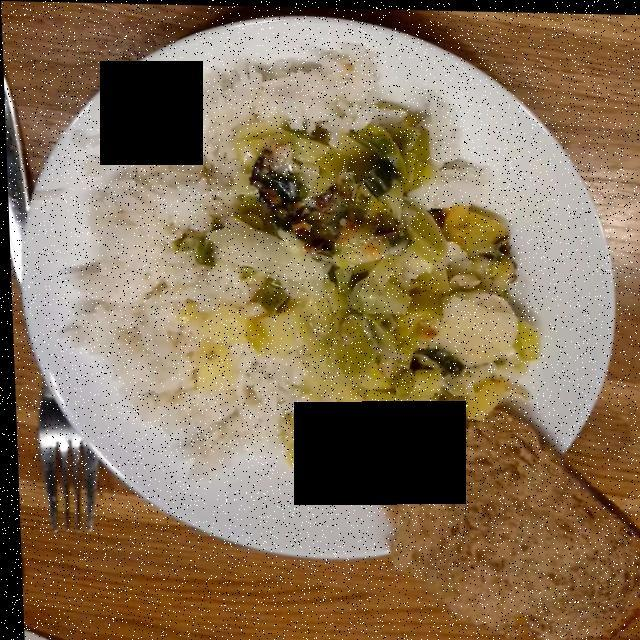leek: (183, 113, 541, 479)
potatoes: (196, 303, 509, 424)
rice: (60, 43, 386, 477)
